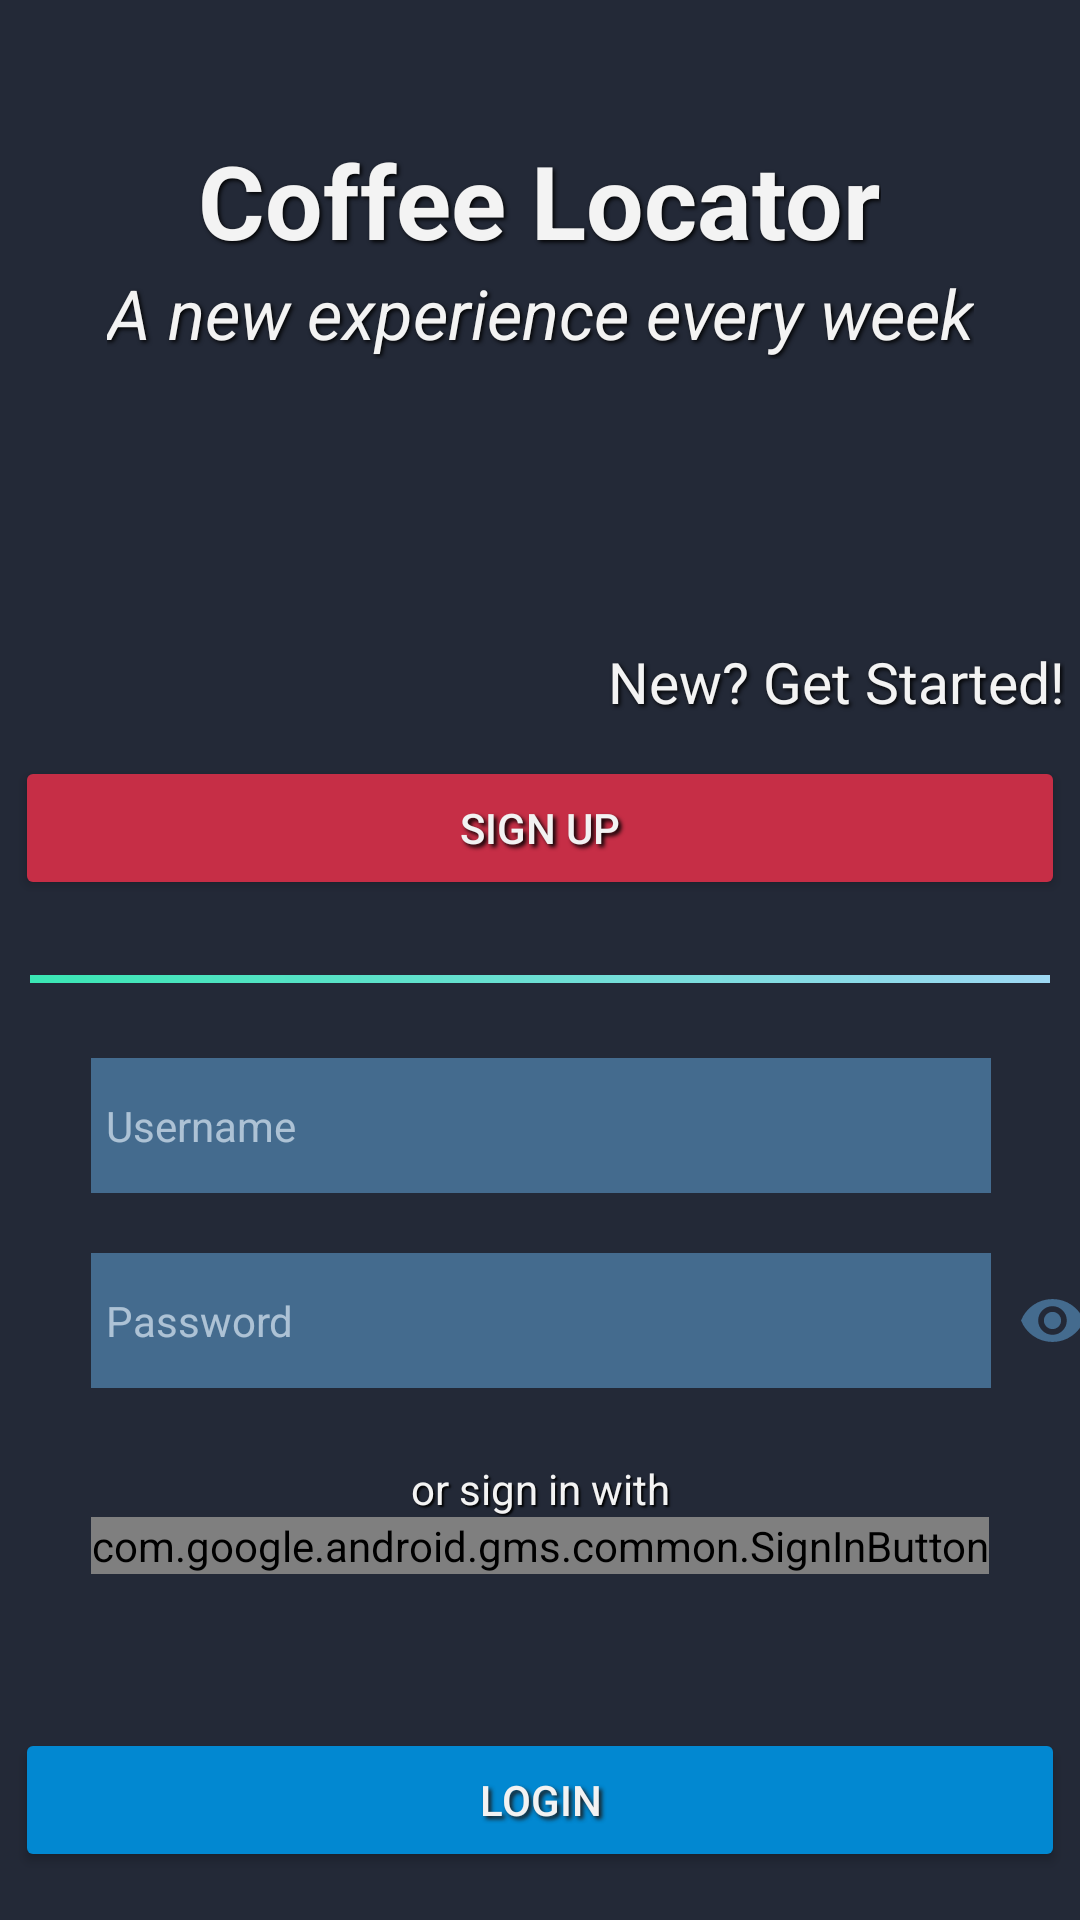

Named icons in this screenshot (1080px×1920px) and their centers, point (x, y):
eye pass visible: point (1050, 1320)
